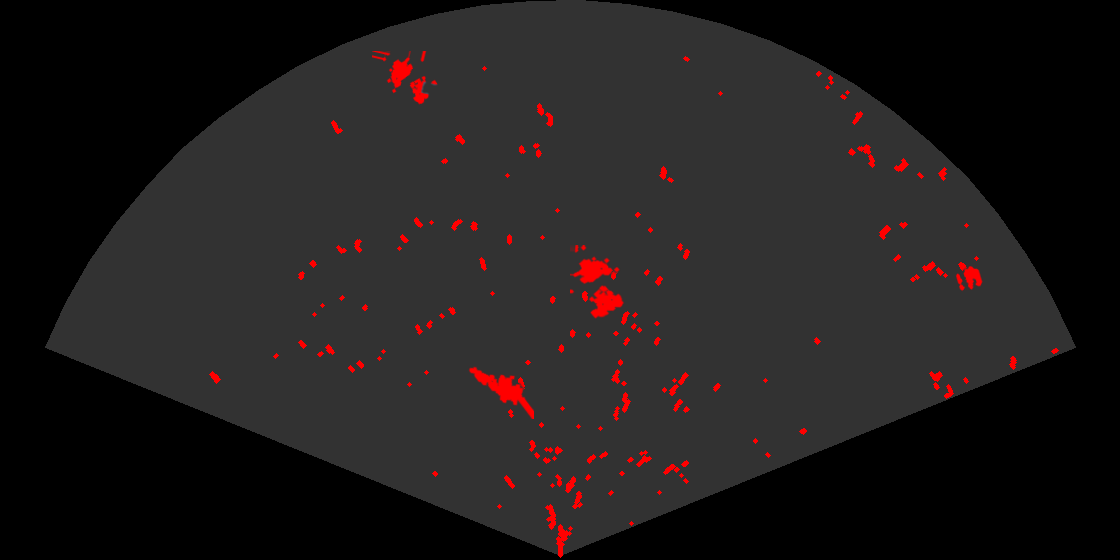ball: (954, 264, 984, 293)
cage: (570, 245, 626, 320), (372, 51, 439, 106)
frogman: (467, 365, 534, 419)
